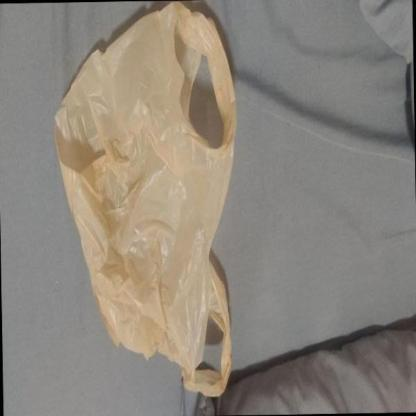Plastic Bag: (53, 4, 238, 396)
